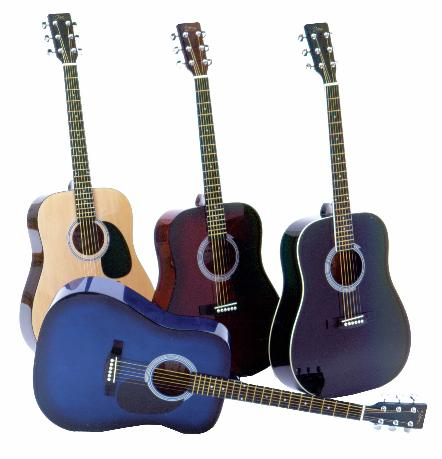guitar: (30, 273, 430, 443), (265, 22, 415, 397), (14, 11, 163, 353), (148, 19, 285, 386)
